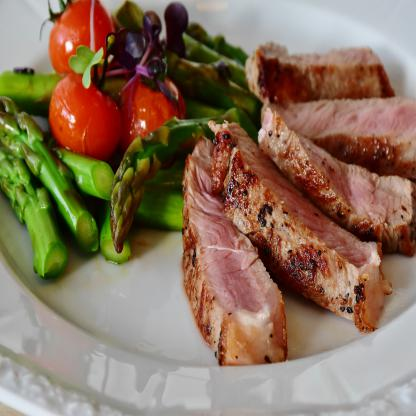Carne: (207, 118, 392, 334), (181, 128, 287, 358), (260, 106, 415, 255), (265, 92, 416, 168), (251, 45, 394, 99)
